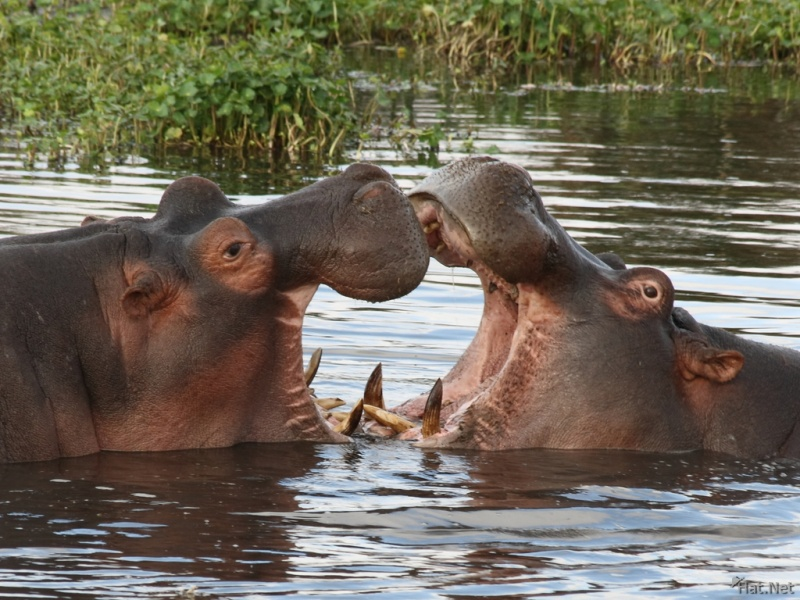hipopotamo: (0, 160, 425, 457), (407, 152, 800, 465)
